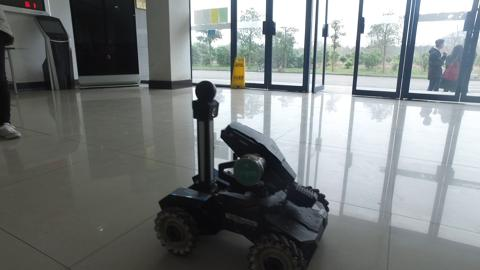chariot: (144, 75, 338, 270)
